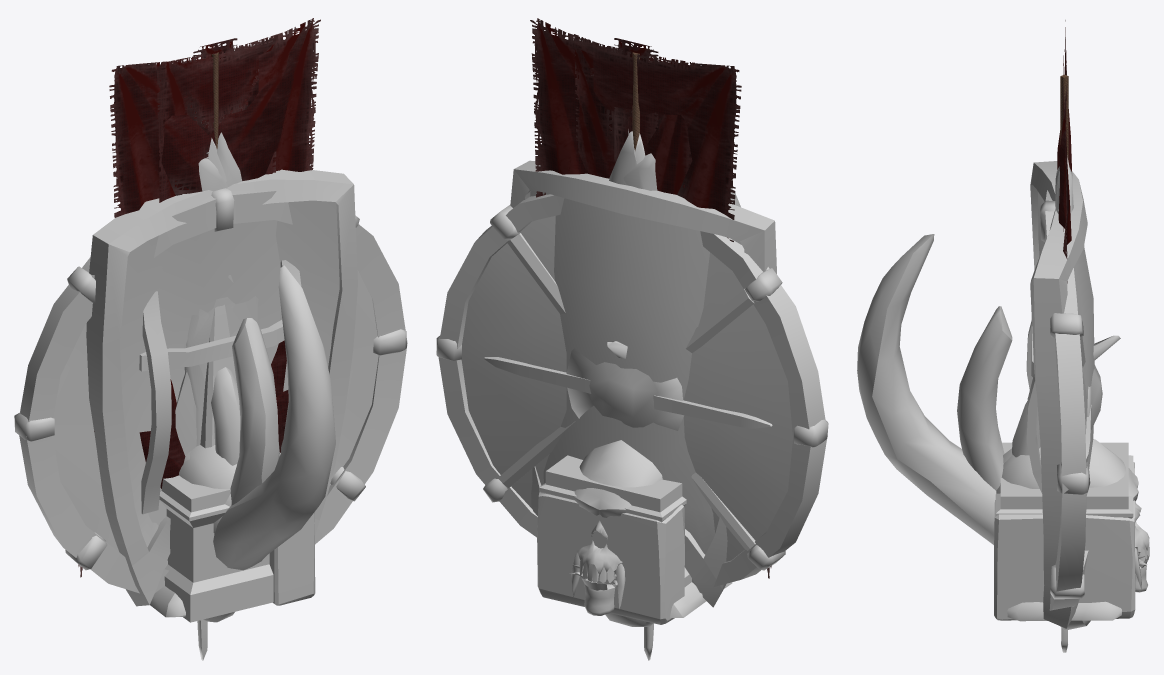
File: TCDetails.FBX
The picture shows the model from 3 angles, left to right: view 1: azimuth 30°, elevation 25°; view 2: azimuth 150°, elevation 25°; view 3: azimuth 270°, elevation 25°; orthographic projection. The views are drawn at different scales.
Parts seen in each view (by area): view 1: Shield_1, Shield_2, Tape_3, Tusk_1, Box, Tape_2, Tusk_2, Angle, fence_3, Tusk_3, fence_1, Skull_1 (+4 smaller); view 2: Shield_1, Shield_2, Tape_3, Angle, Skull_2, Tape_2, Box, Tape_1, fence_1, fence_3, bot, Rope_1; view 3: Tusk_1, Shield_2, Shield_1, Angle, Tusk_2, Box, Skull_2, Tape_3, bot, Tusk_3, Skull_1, Rope_1.
Part boxes in pixels (<box>): Shield_1: <box>14,188,407,593</box>; Shield_2: <box>86,169,357,606</box>; Tape_3: <box>109,18,320,466</box>; Tusk_1: <box>203,265,335,622</box>; Box: <box>159,452,280,622</box>; Tape_2: <box>157,35,277,202</box>; Tusk_2: <box>230,318,279,505</box>; Angle: <box>269,512,315,605</box>; fence_3: <box>175,132,258,455</box>; Tusk_3: <box>211,367,240,465</box>; fence_1: <box>184,157,235,446</box>; Skull_1: <box>179,445,236,533</box>; Shield_1: <box>436,194,828,586</box>; Shield_2: <box>510,160,776,607</box>; Tape_3: <box>530,18,741,241</box>; Angle: <box>537,492,684,624</box>; Skull_2: <box>569,440,662,615</box>; Tape_2: <box>574,34,694,194</box>; Box: <box>539,455,691,586</box>; Tape_1: <box>614,38,658,161</box>; fence_1: <box>623,153,657,190</box>; fence_3: <box>609,131,636,185</box>; bot: <box>670,582,732,617</box>; Rope_1: <box>632,52,639,150</box>; Tusk_1: <box>857,234,1090,630</box>; Shield_2: <box>1030,161,1094,628</box>; Shield_1: <box>1026,190,1102,610</box>; Angle: <box>994,462,1135,620</box>; Tusk_2: <box>957,306,1012,490</box>; Box: <box>995,442,1133,518</box>; Skull_2: <box>1003,439,1149,592</box>; Tape_3: <box>1057,20,1071,283</box>; bot: <box>1007,601,1121,621</box>; Tusk_3: <box>1012,335,1120,457</box>; Skull_1: <box>996,447,1144,558</box>; Rope_1: <box>1060,74,1068,161</box>.
Bounding box in the file's own units: 145 × 224 × 99.76.
